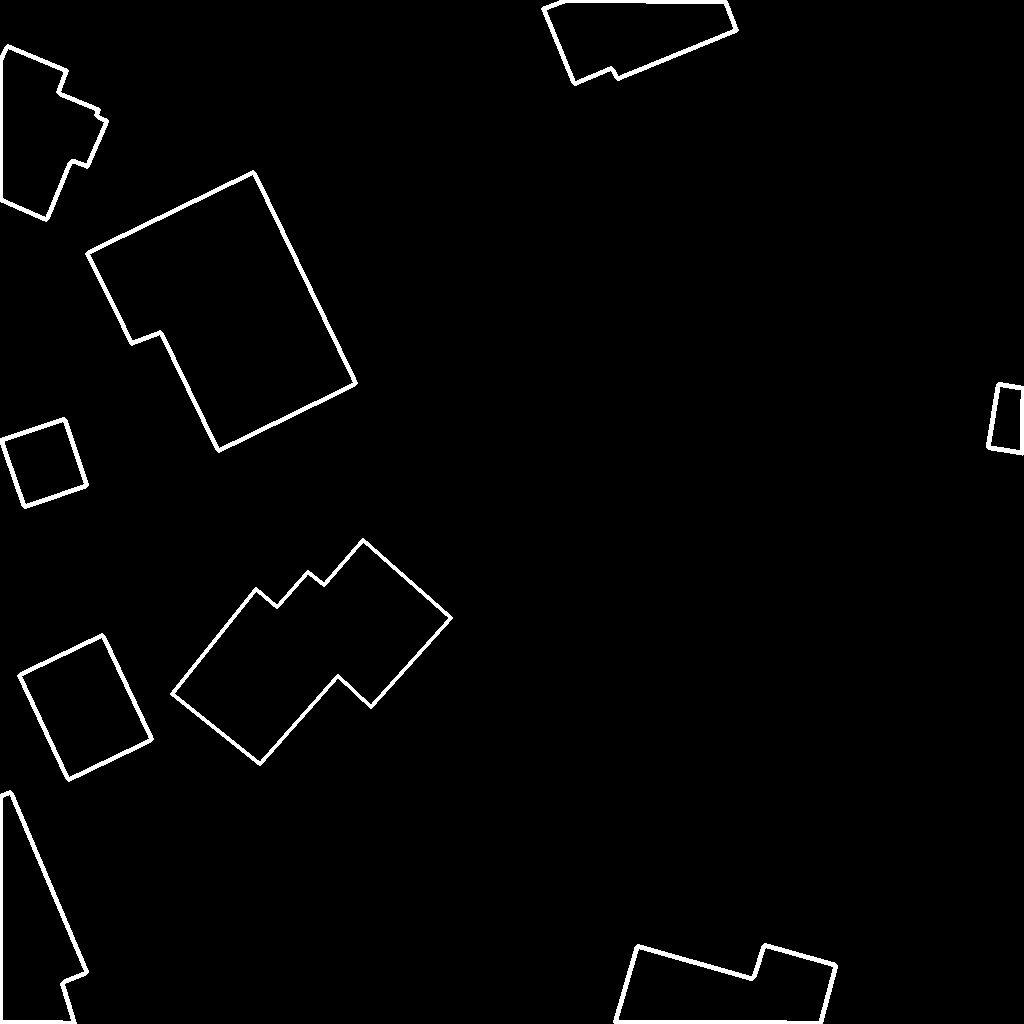building: (87, 172, 357, 452), (172, 540, 452, 765), (0, 792, 88, 1024), (19, 635, 153, 781), (0, 46, 108, 221), (615, 945, 837, 1024), (543, 0, 738, 85), (1, 419, 88, 508), (988, 384, 1024, 454)
